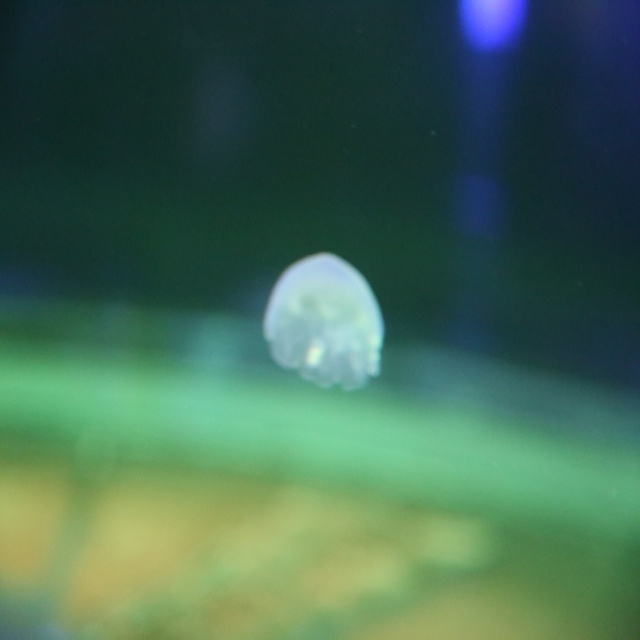Jellyfish: (259, 247, 384, 402)
